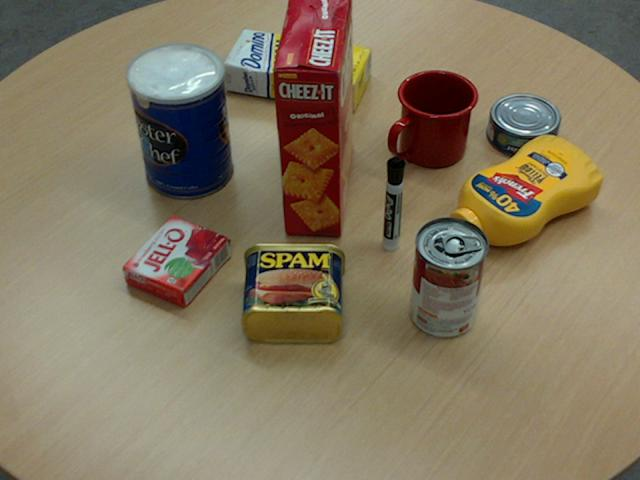cracker_box: (271, 0, 355, 236)
gelatin_box: (122, 214, 230, 306)
large_marker: (383, 157, 404, 250)
master_chef_can: (126, 43, 232, 199)
mug: (388, 69, 478, 167)
mustard_bottle: (441, 134, 600, 246)
potted_meat_can: (240, 242, 343, 341)
sugar_box: (221, 28, 371, 110)
tomato_soup_can: (409, 216, 487, 337)
tuna_fish_can: (485, 93, 559, 157)
